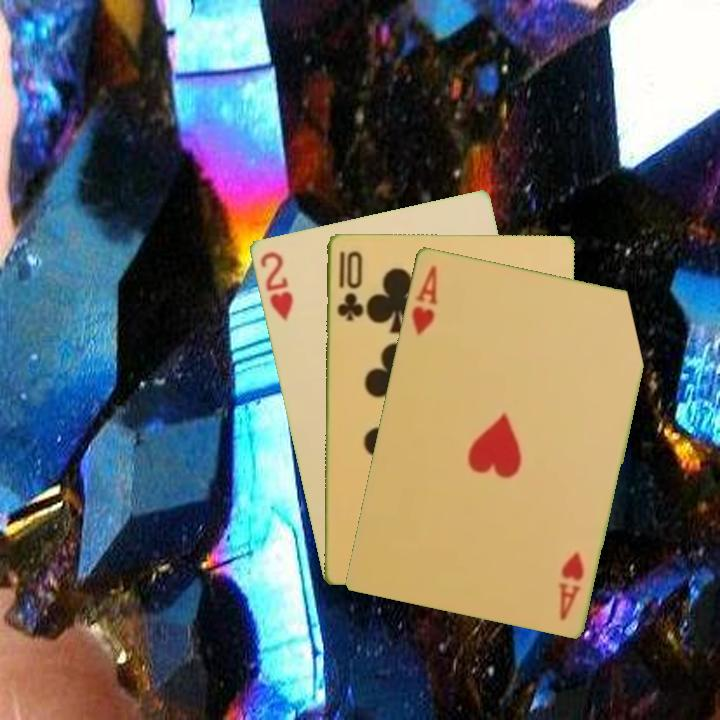10c: (333, 247, 364, 324)
2h: (256, 247, 296, 324)
Ah: (407, 261, 440, 338), (555, 547, 587, 623)
